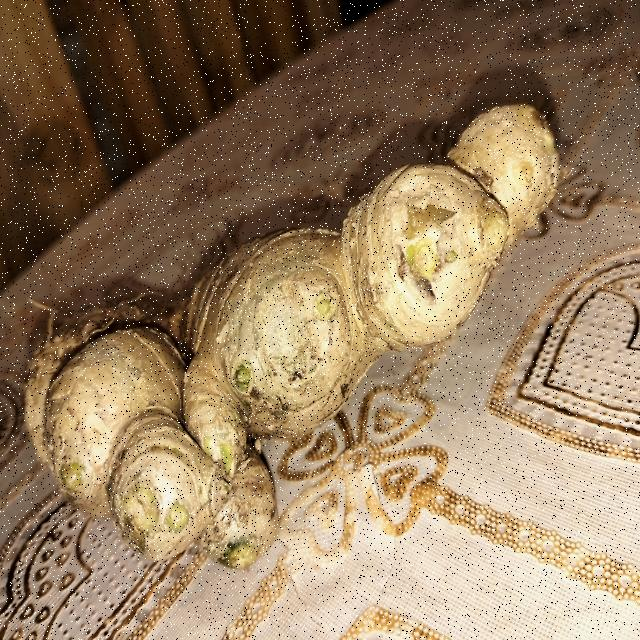ginger: (21, 78, 554, 561)
